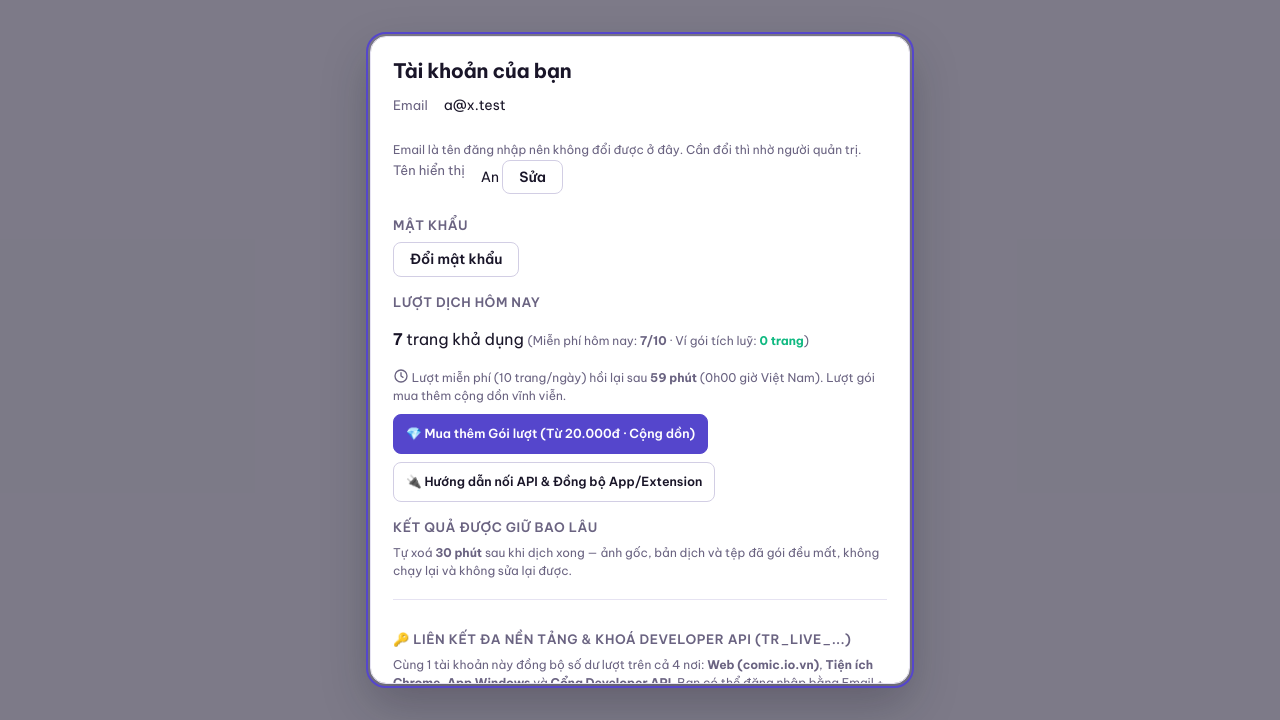
Test: E56 — sửa tài khoản › đổi xong thì nói ra ĐÃ đăng xuất bao nhiêu thiết bị
Click the button "Đổi mật khẩu" at (456, 260), box [393,242,519,277]
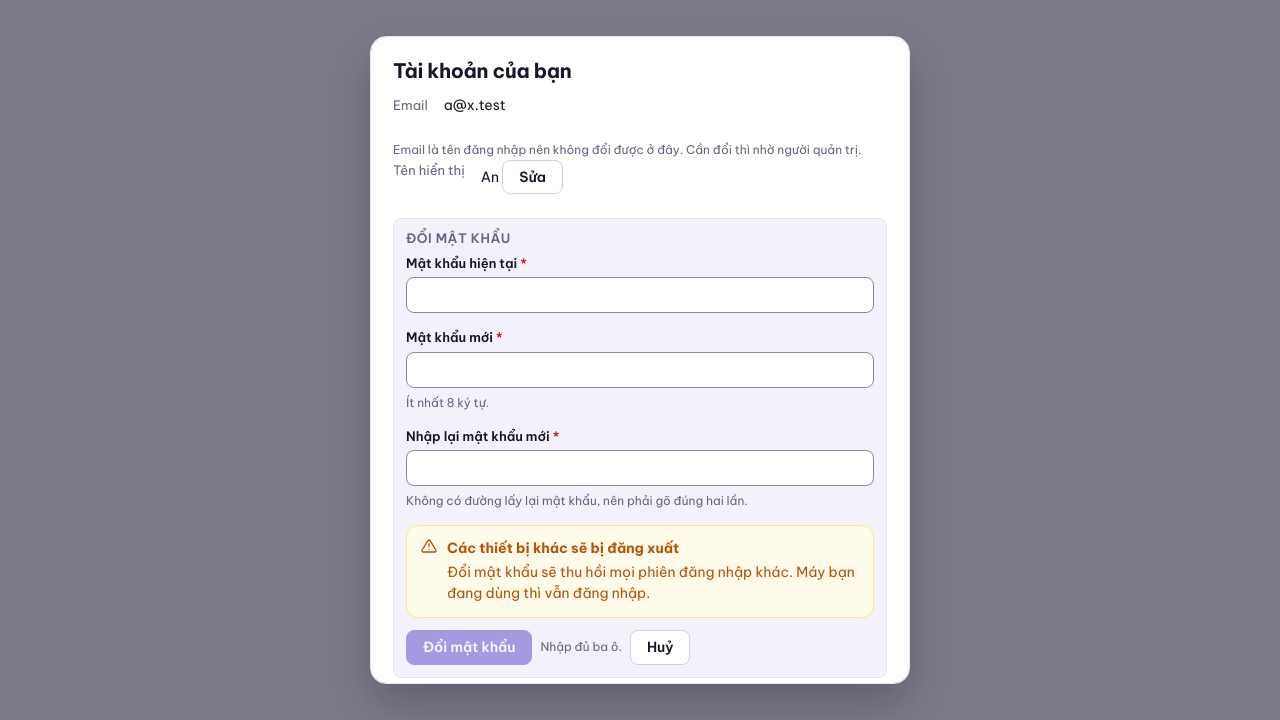
Type "mat-khau-cu-1" into the password field labelled "Mật khẩu hiện tại *" at (640, 296), box [406,278,874,314]
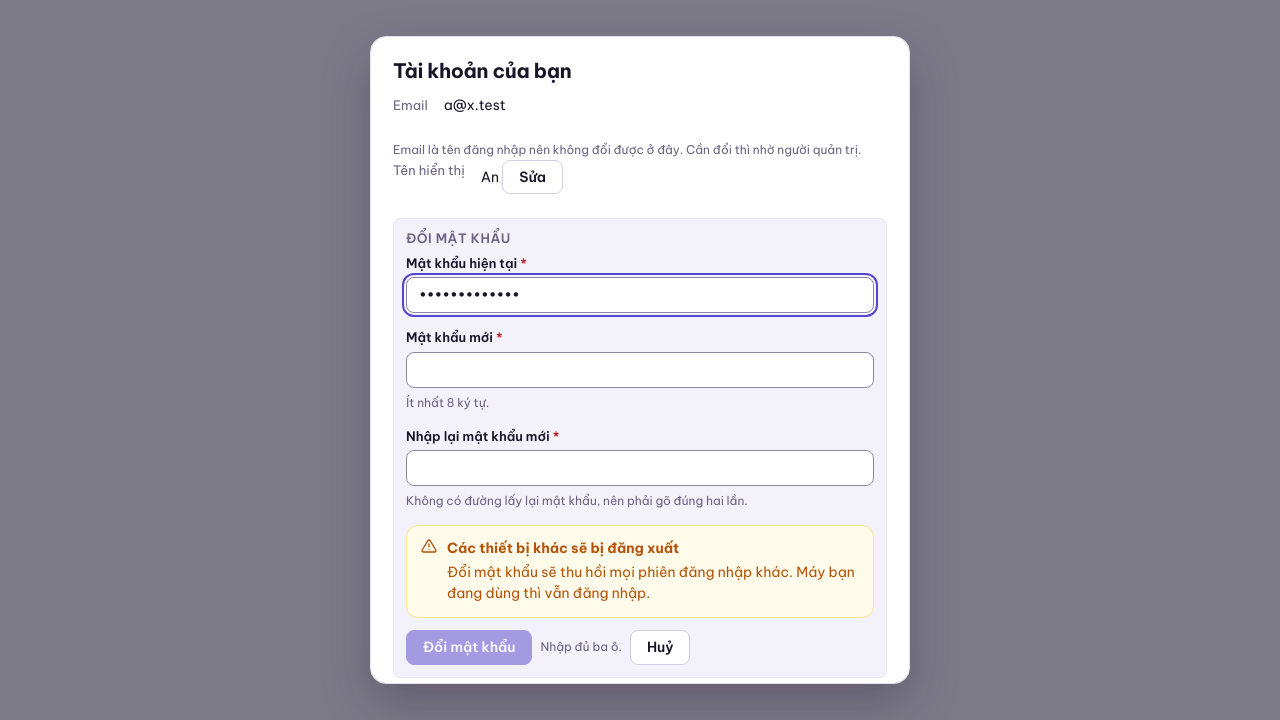
Type "mat-khau-moi-1" into the password field labelled "Mật khẩu mới *" at (640, 370), box [406,352,874,388]
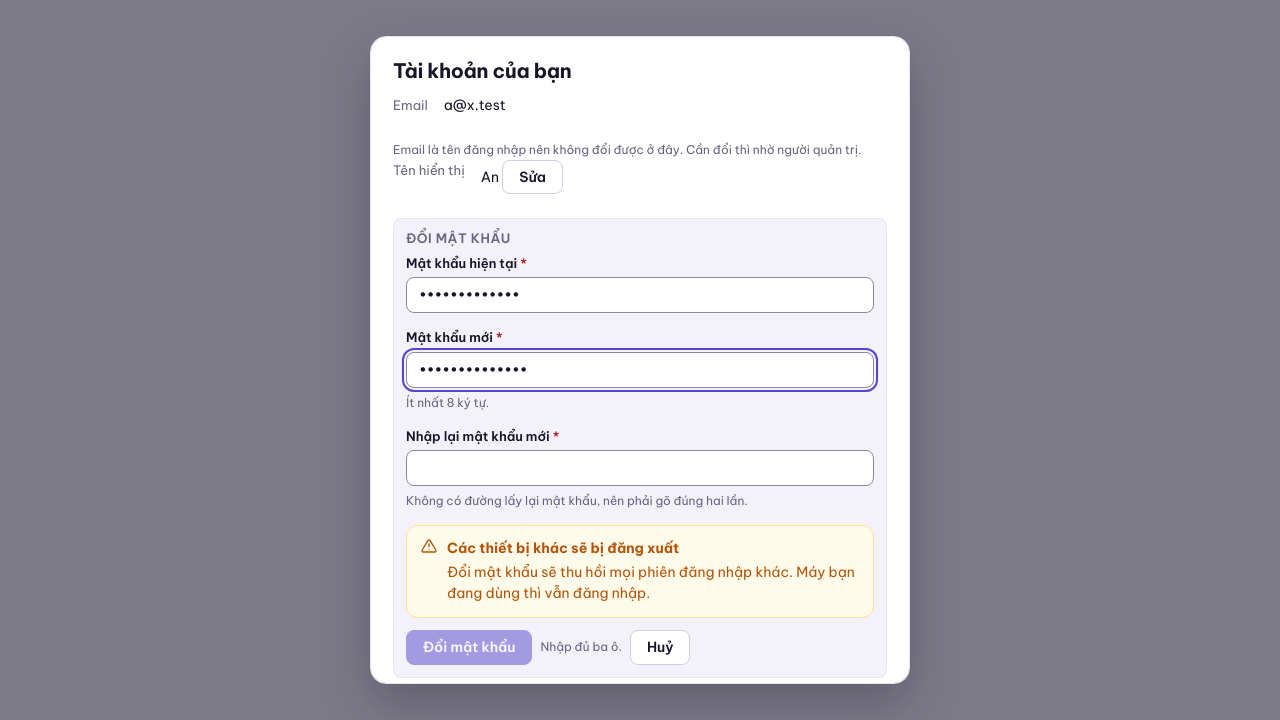
Type "mat-khau-moi-1" into the password field labelled "Nhập lại mật khẩu mới *" at (640, 468), box [406,450,874,486]
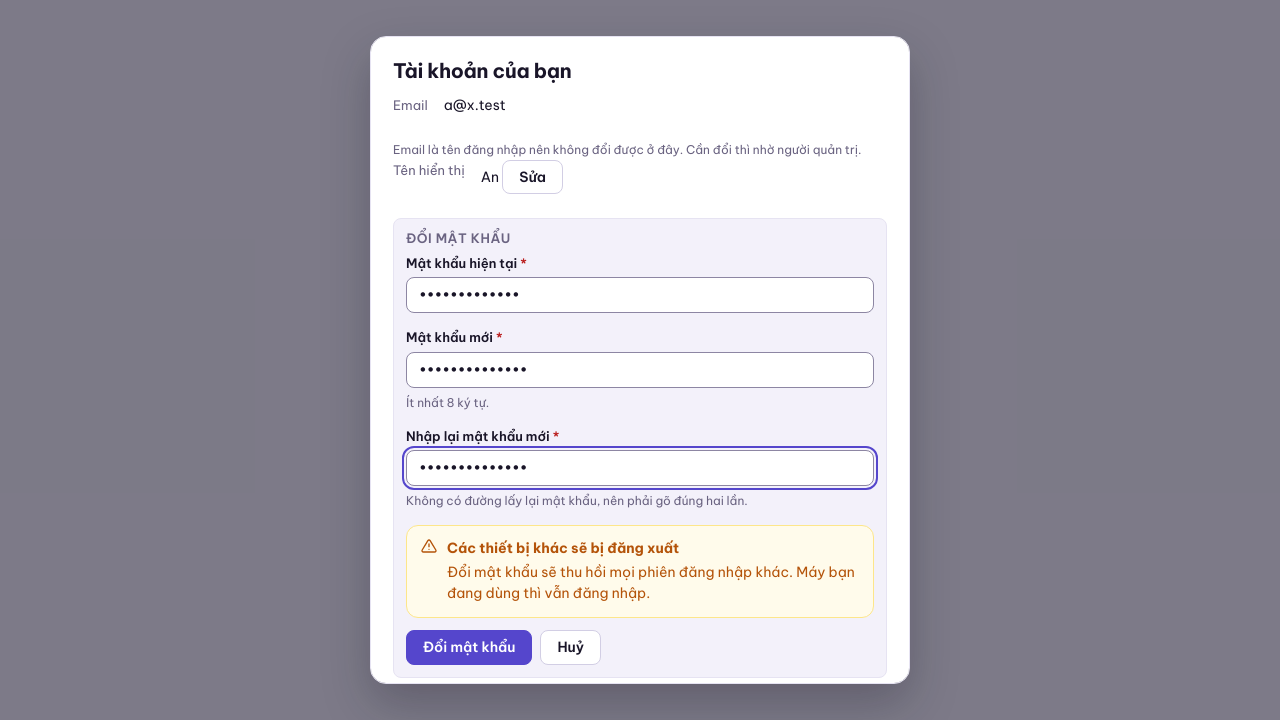
Click the button "Đổi mật khẩu" at (469, 647), box [406,630,532,665]
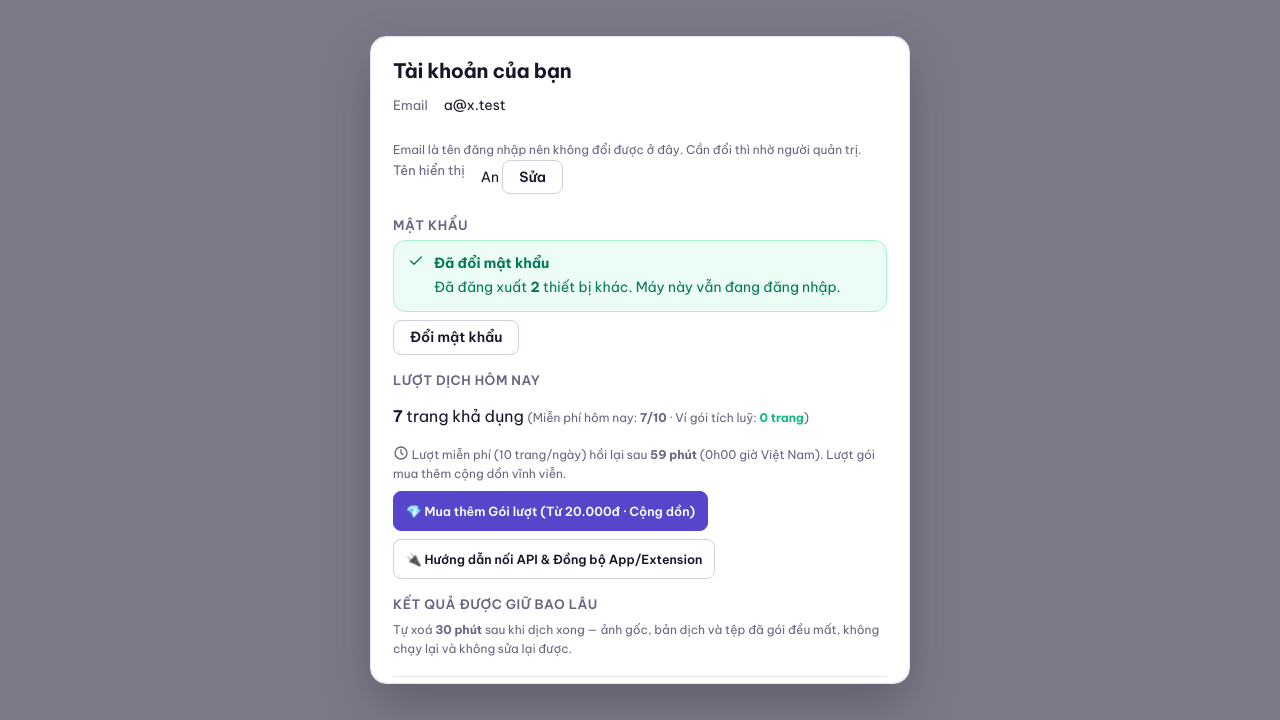
expect the text "Đã đổi mật khẩu" is shown: met, box [434,254,549,272]
expect the text "2" is shown: met, box [530,278,540,296]
